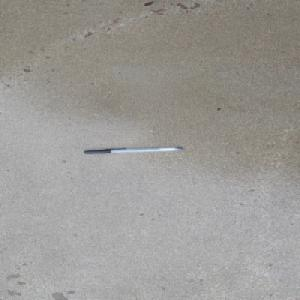Pen: (83, 146, 183, 154)
